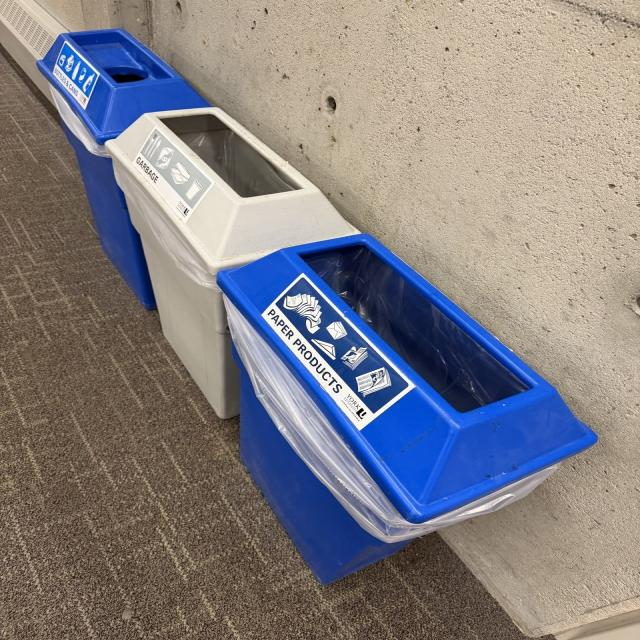Dustbin: (35, 27, 599, 586)
